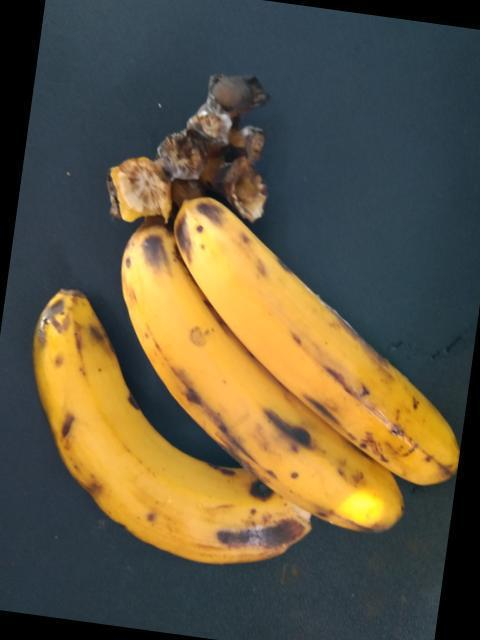overripe: (23, 287, 316, 583), (114, 218, 375, 537), (179, 203, 453, 480)
